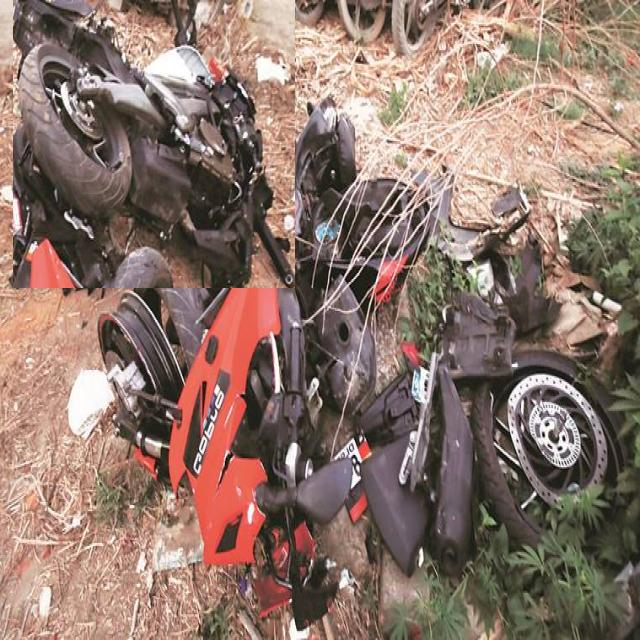accident: (99, 103, 620, 626), (13, 0, 294, 288)
